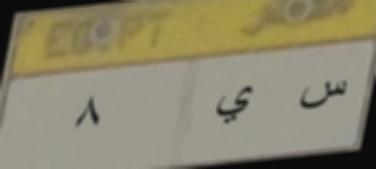8: (69, 88, 107, 136)
seen: (296, 74, 351, 116)
yaa: (212, 83, 253, 128)
